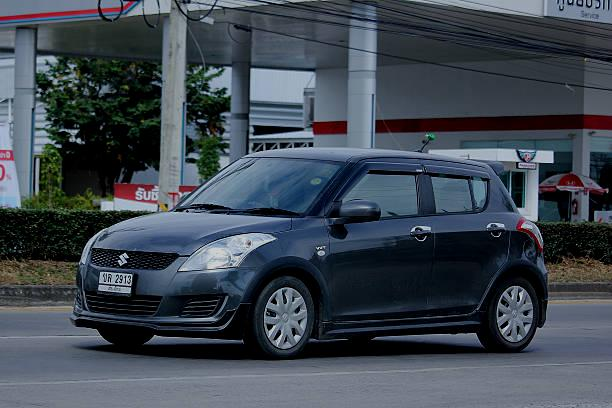suzuki: (112, 250, 135, 270)
